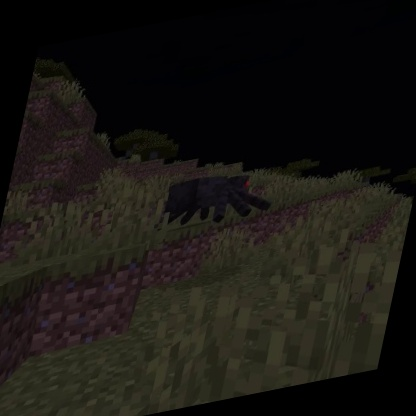spider: (154, 158, 284, 239)
